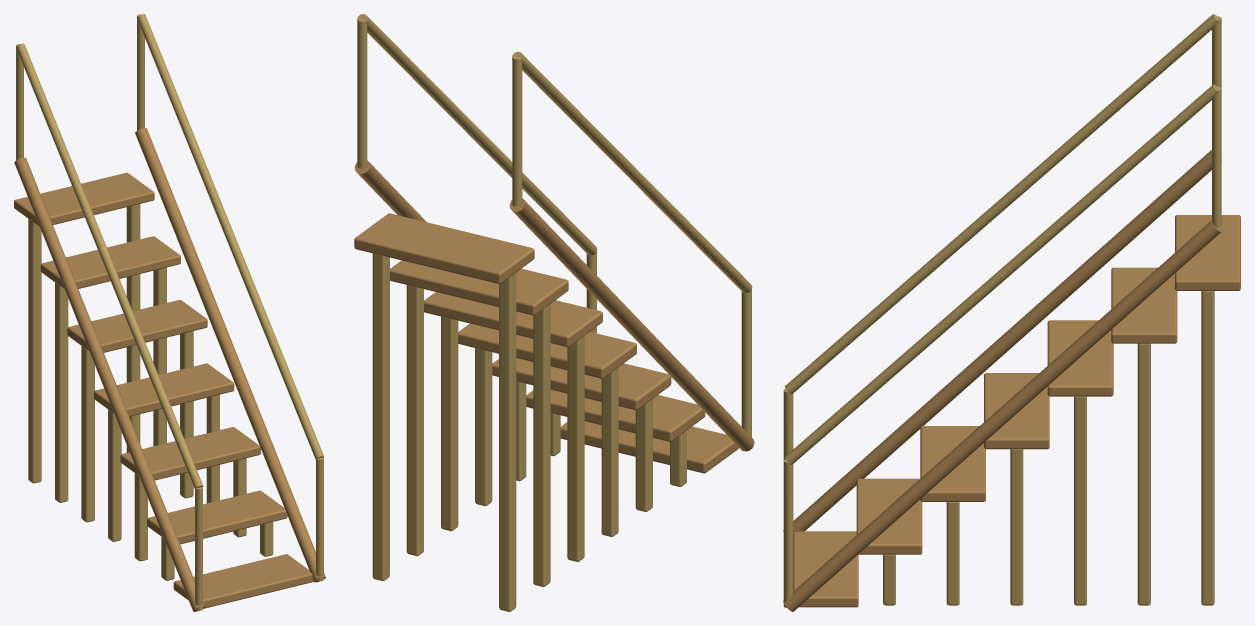
The model's file is abandoned-puppet-theatre-and-prop-vault-bridge-access--72681c5d__31058.glb.
3 views of the same model, side by side, from view 1: azimuth 30°, elevation 25°; view 2: azimuth 150°, elevation 25°; view 3: azimuth 270°, elevation 25° (orthographic). The views are drawn at different scales.
Visible parts, largest first — view 1: bridge-access-stair; view 2: bridge-access-stair; view 3: bridge-access-stair.
Boxes of the visible parts, x1,y1,x2,y2 form: bridge-access-stair: (14, 14, 325, 611); bridge-access-stair: (354, 14, 754, 611); bridge-access-stair: (783, 14, 1240, 611).
Bounding box in the file's own units: 0.8299 × 2.64 × 2.08.
